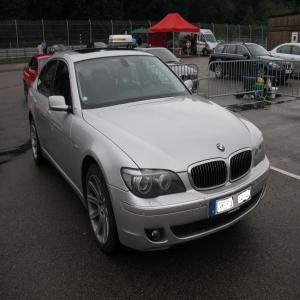Vehicle-registration-plate: (211, 186, 253, 219), (285, 69, 293, 75)
